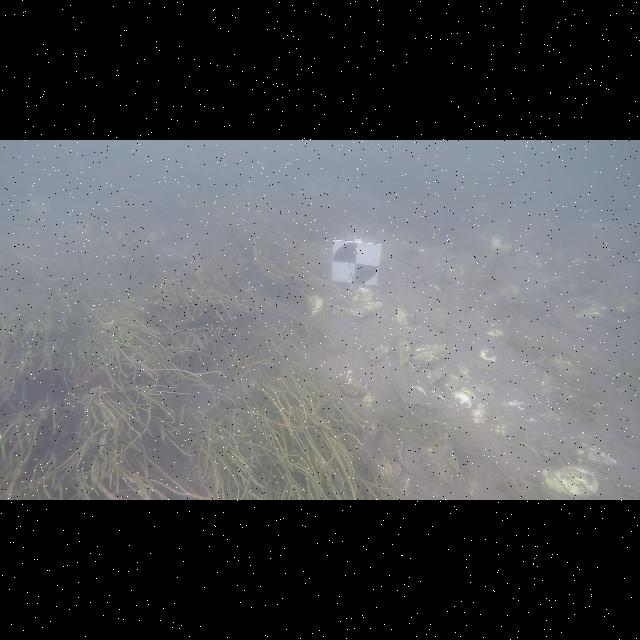Oyster-Closed: (541, 466, 599, 498), (411, 344, 449, 368), (341, 370, 368, 396), (476, 349, 499, 372), (421, 366, 448, 385), (395, 336, 411, 365), (454, 388, 476, 409), (361, 391, 380, 414), (432, 308, 449, 331), (394, 306, 410, 330), (351, 288, 374, 304), (471, 404, 488, 424), (492, 415, 506, 438), (368, 346, 390, 360)
Oyster-Open: (345, 300, 384, 324), (394, 438, 410, 474), (402, 386, 428, 405), (409, 309, 419, 326)
